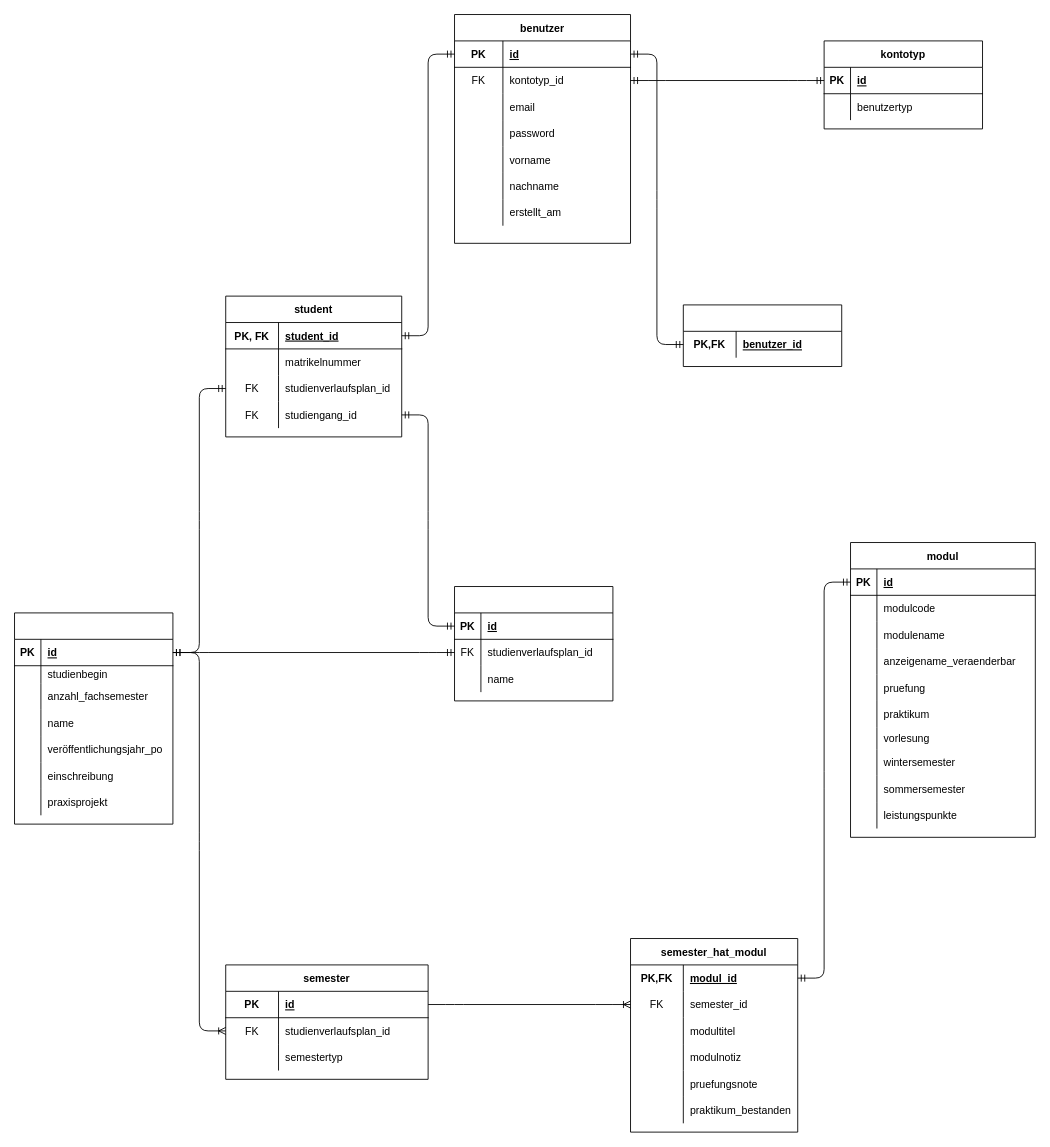
Some shapes in this 1050 by 1147 pixel diagram are drawn without their labels. Here are the shapes that lost their labels. From the top down, the box of each, then its label:
(682, 304, 842, 367): verwalter
(454, 586, 613, 701): studiengang
(14, 612, 173, 824): studienverlaufsplan
